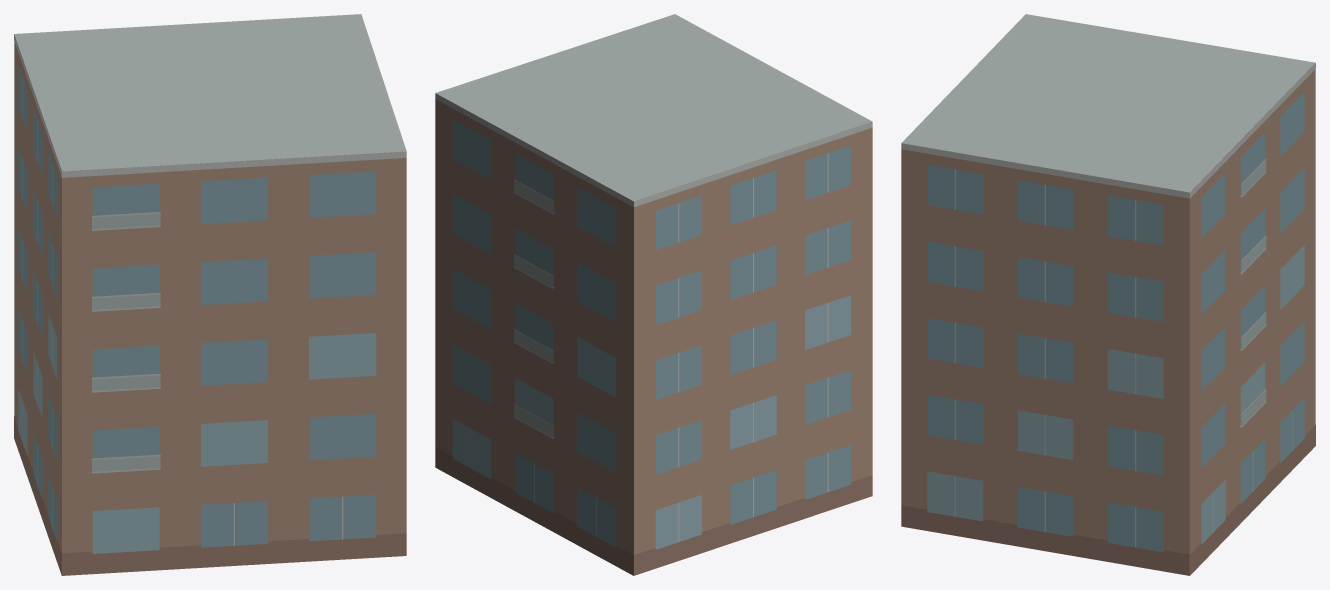
Rendered from survey-upis-32591115.glb.
The picture shows the model from 3 angles, left to right: view 1: azimuth 30°, elevation 25°; view 2: azimuth 150°, elevation 25°; view 3: azimuth 270°, elevation 25°; orthographic projection. The views are drawn at different scales.
Parts seen in each view (by area): view 1: survey-upis-32591115.tmp; view 2: survey-upis-32591115.tmp; view 3: survey-upis-32591115.tmp.
Boxes of the visible parts, bbox=[...] form: survey-upis-32591115.tmp: bbox=[14, 14, 406, 575]; survey-upis-32591115.tmp: bbox=[435, 14, 872, 575]; survey-upis-32591115.tmp: bbox=[901, 14, 1315, 575].
Size of the model in its own units: 15.39 by 15.4 by 15.1.
